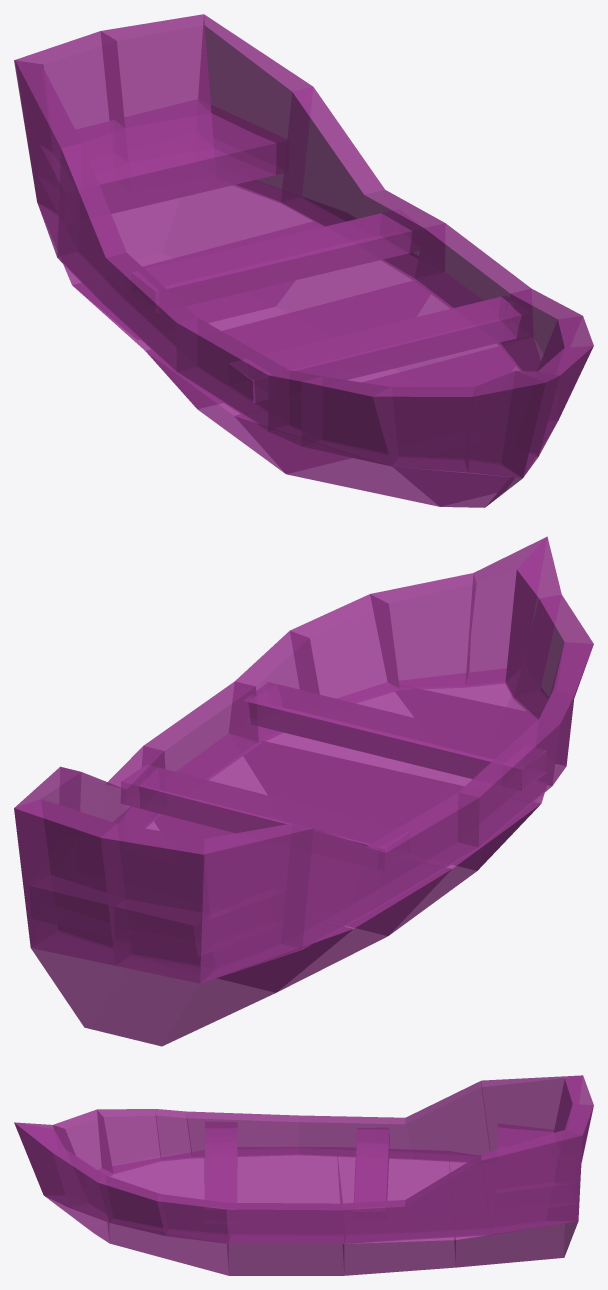
Rendered from SM_Veh_Rowboat_01_Collision.fbx.
3 renders of one model, top to bottom at view 1: azimuth 30°, elevation 25°; view 2: azimuth 150°, elevation 25°; view 3: azimuth 270°, elevation 25°, orthographic. The views are drawn at different scales.
Visible parts, largest first — view 1: SM_Veh_Rowboat_01_Collision; view 2: SM_Veh_Rowboat_01_Collision; view 3: SM_Veh_Rowboat_01_Collision.
Boxes of the visible parts, x1,y1,x2,y2 form: SM_Veh_Rowboat_01_Collision: (14,14,593,507); SM_Veh_Rowboat_01_Collision: (14,536,593,1046); SM_Veh_Rowboat_01_Collision: (14,1075,593,1275).
Bounding box in the file's own units: 193 × 131 × 488.
